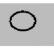no answer: (6, 9, 40, 33)
